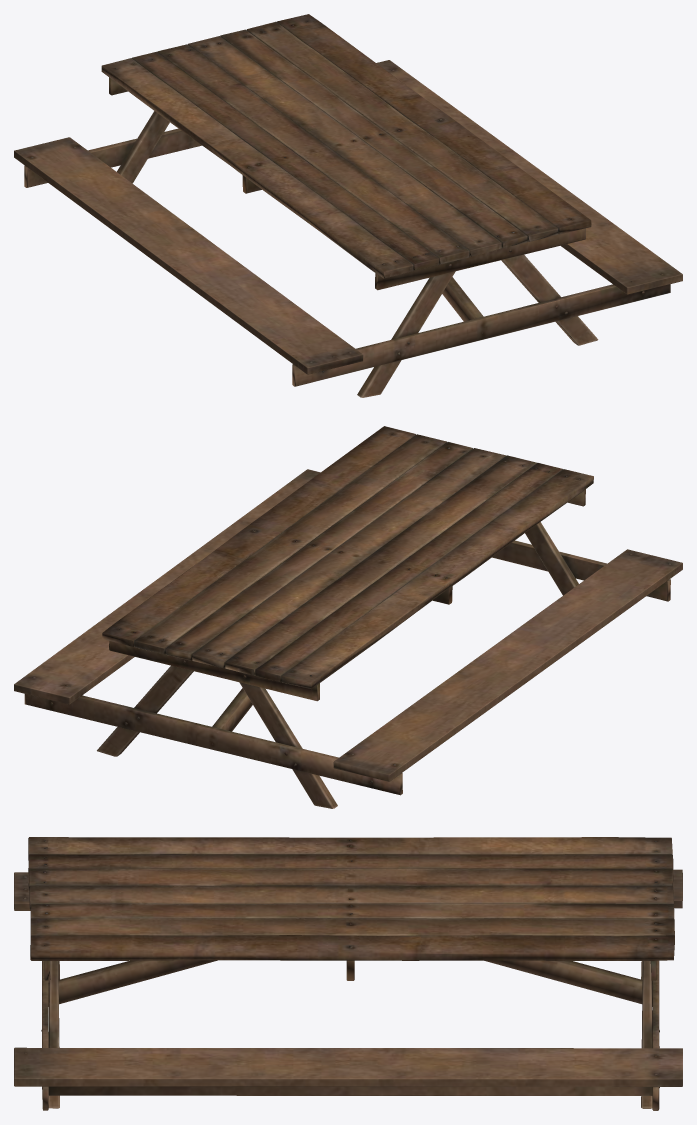
The model's file is picknicktisch.glb.
3 renders of one model, top to bottom at view 1: azimuth 30°, elevation 25°; view 2: azimuth 150°, elevation 25°; view 3: azimuth 270°, elevation 25°, orthographic. The views are drawn at different scales.
Visible parts, largest first — view 1: wooden_picnic_table; view 2: wooden_picnic_table; view 3: wooden_picnic_table.
Boxes of the visible parts, bbox=[...] form: wooden_picnic_table: bbox=[14, 14, 682, 397]; wooden_picnic_table: bbox=[14, 426, 682, 808]; wooden_picnic_table: bbox=[14, 837, 682, 1110].
Size of the model in its own units: 2.24 by 0.7445 by 3.02.
1 material, 1 textured.
